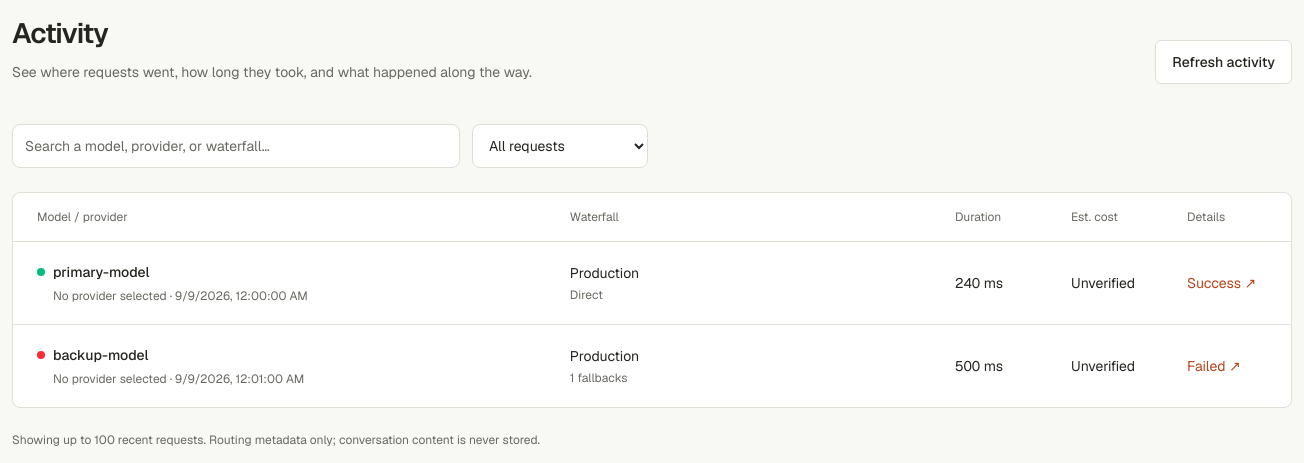
Scenario: filters requests by outcome and explains empty search results
Check: the text "primary-model" is shown, box x1=53 y1=262 x2=150 y2=282
Select "Failed" in the dropdown named "Request status" at [560, 146], box x1=472 y1=124 x2=648 y2=168
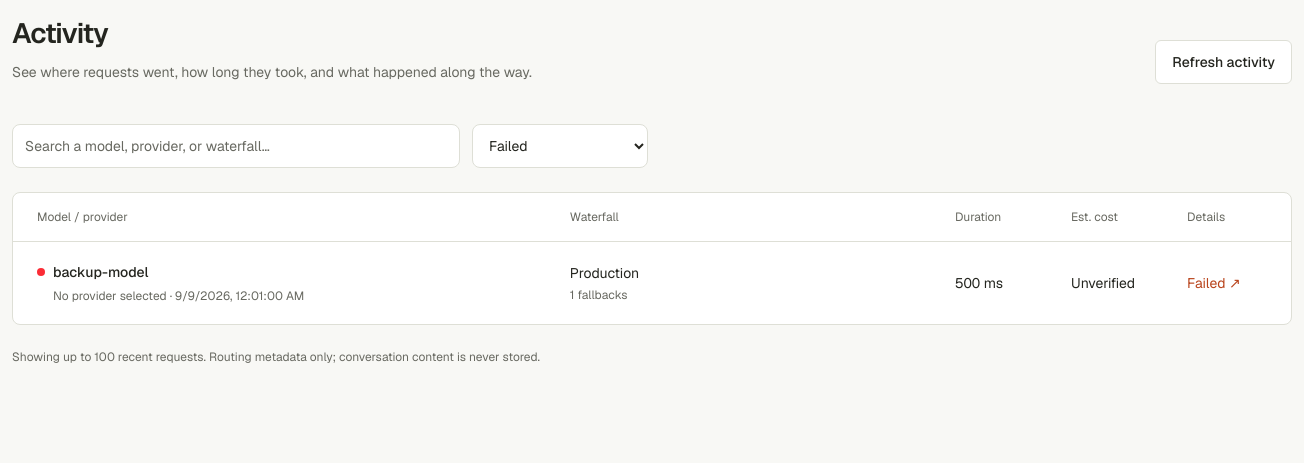
Check: the text "backup-model" is shown, box x1=53 y1=262 x2=148 y2=282
Check: the button "primary-model" is gone
Type "absent" into the field named "Filter activity" at [236, 146], box x1=12 y1=124 x2=460 y2=168
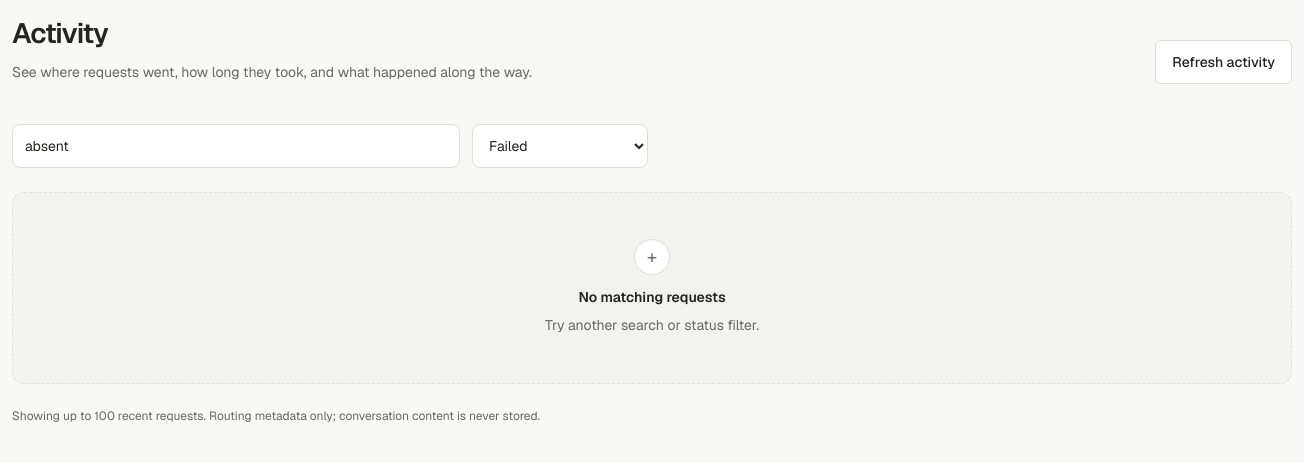
Check: the heading "No matching requests" is shown, box x1=578 y1=287 x2=726 y2=307
